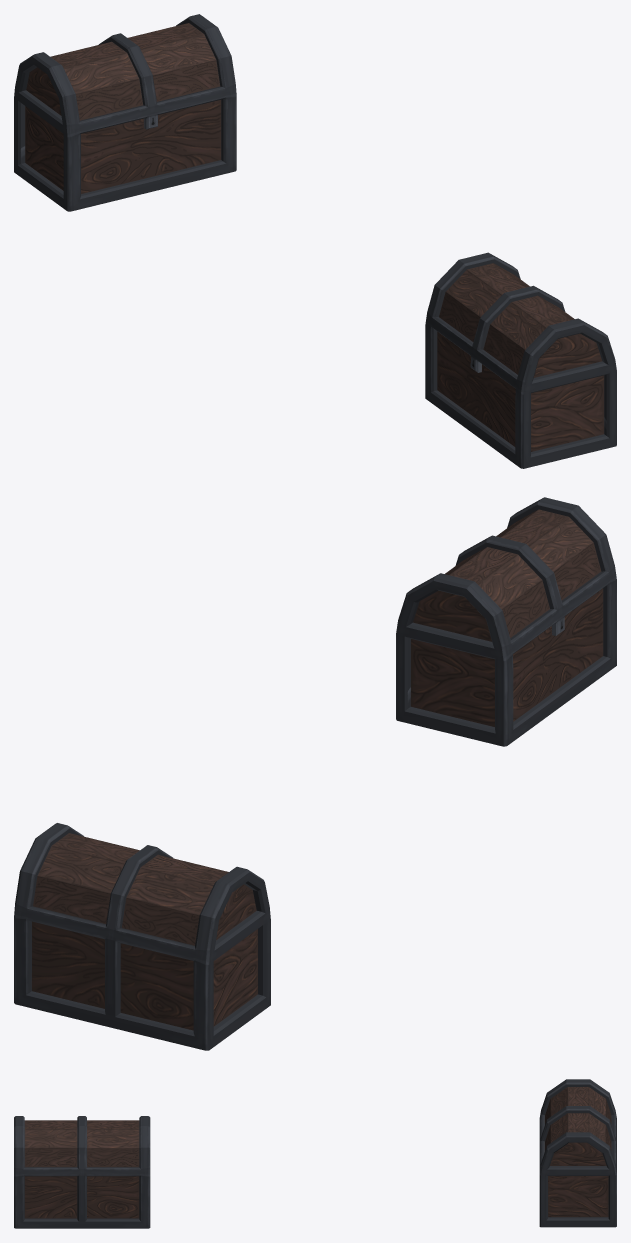
The model's file is chests.obj.
The picture shows the model from 3 angles, top to bottom: view 1: azimuth 30°, elevation 25°; view 2: azimuth 150°, elevation 25°; view 3: azimuth 270°, elevation 25°; orthographic projection. The views are drawn at different scales.
Visible parts, largest first — view 1: chests_Cylinder.109; view 2: chests_Cylinder.109; view 3: chests_Cylinder.109.
Part boxes in pixels (box(x1,y1,x2,y2)): chests_Cylinder.109: box(14, 14, 616, 468); chests_Cylinder.109: box(14, 497, 616, 1050); chests_Cylinder.109: box(14, 1079, 616, 1228).
Size of the model in its own units: 0.9123 by 0.6595 by 3.95.
Materials: 1 (1 with a texture image).
